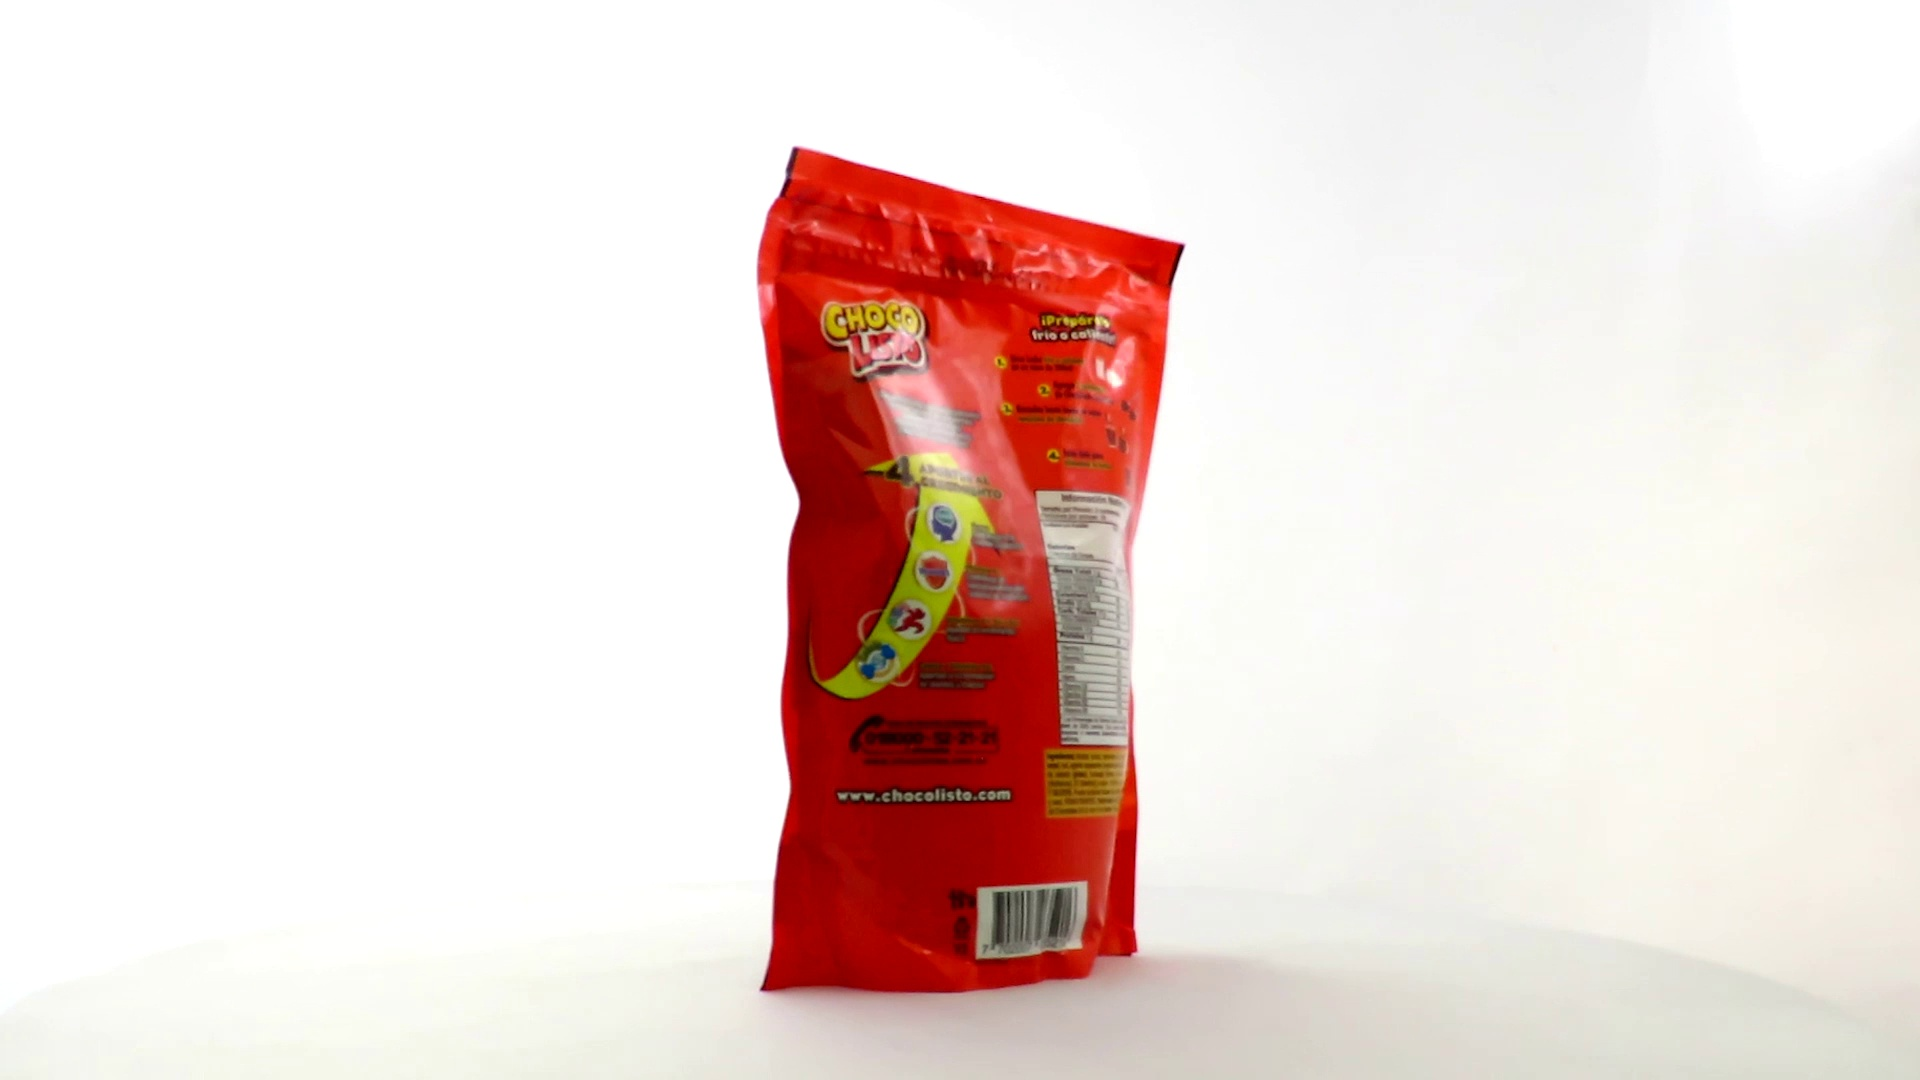COL0170103DYP36000: (752, 142, 1191, 1000)
